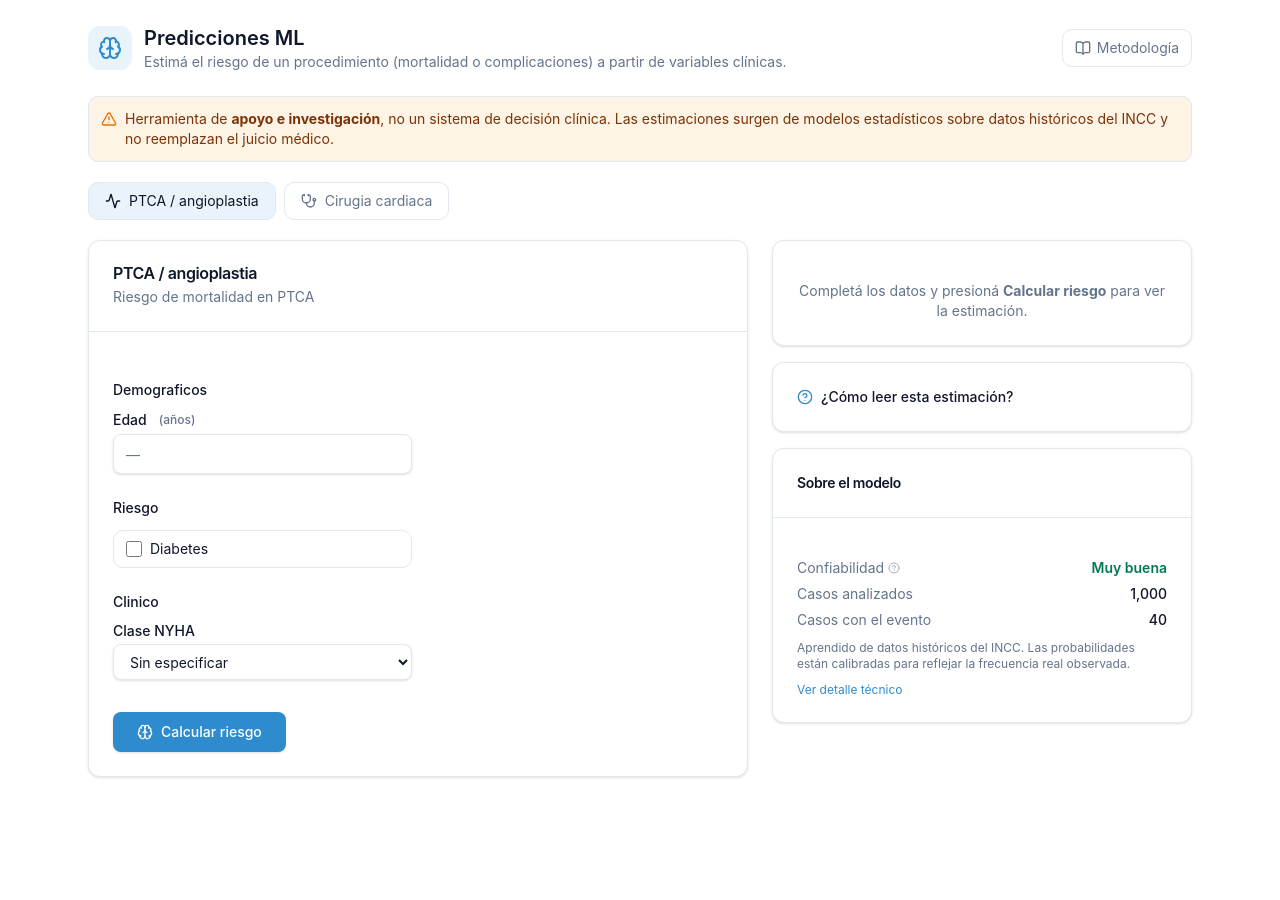
Test: MLPage › cambia de cohort y muestra reliability buena/aceptable
Expected: the button "PTCA / angioplastia" is shown, [88,182,276,220]
Click the button "Cirugia cardiaca". click: (367,201)
box: [284,182,450,220]
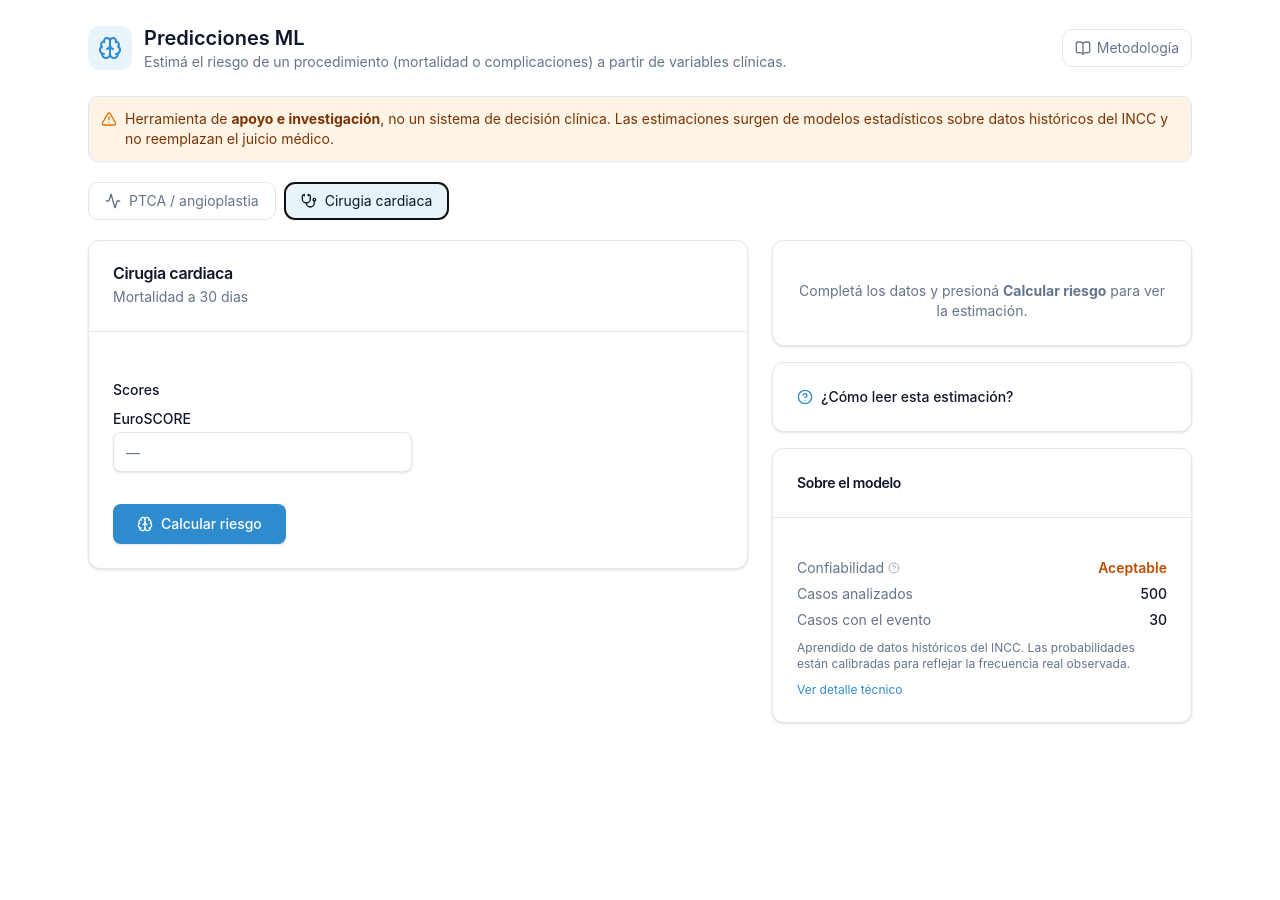
Expected: the text "Aceptable" is shown, [1098,558,1167,578]
